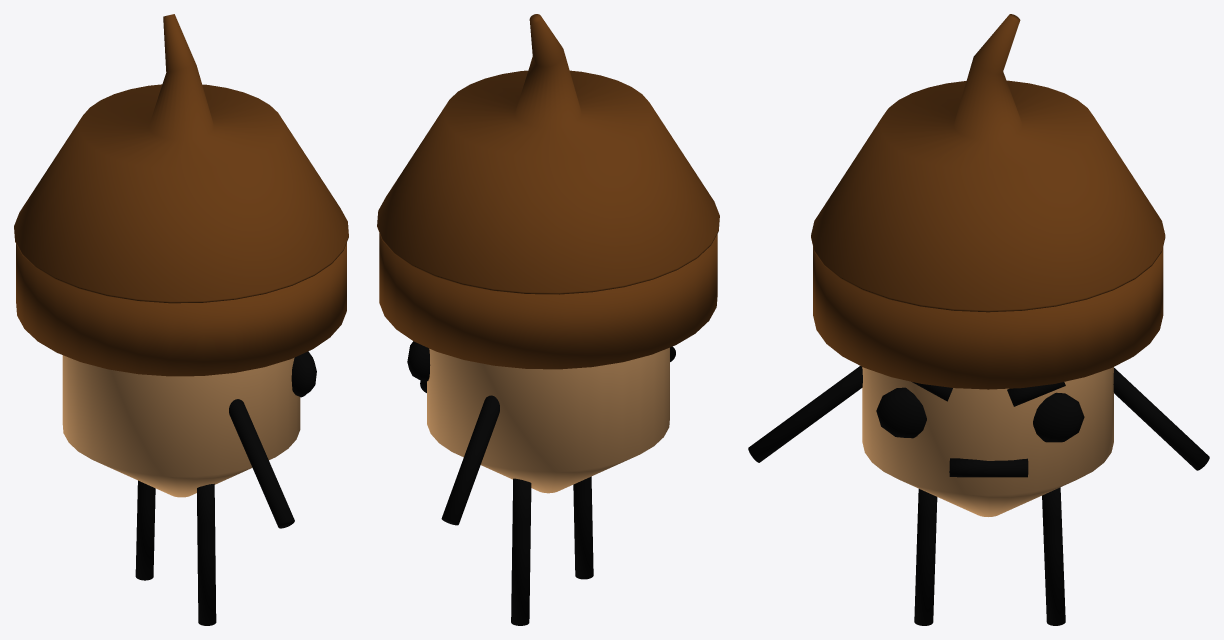
File: jelud.fbx
The picture shows the model from 3 angles, left to right: view 1: azimuth 30°, elevation 25°; view 2: azimuth 150°, elevation 25°; view 3: azimuth 270°, elevation 25°; orthographic projection. The views are drawn at different scales.
Parts seen in each view (by area): view 1: Цилиндр.007; view 2: Цилиндр.007; view 3: Цилиндр.007.
Part boxes in pixels (bbox=[...]): Цилиндр.007: bbox=[14, 14, 348, 625]; Цилиндр.007: bbox=[377, 14, 719, 625]; Цилиндр.007: bbox=[748, 14, 1209, 625].
Bounding box in the file's own units: 282 × 535 × 367.
